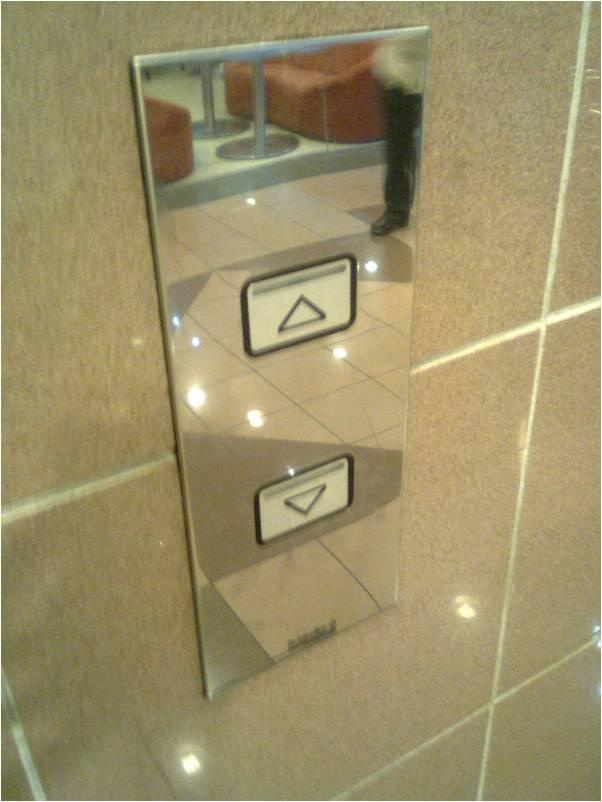down: (250, 450, 356, 547)
up: (237, 253, 359, 358)
